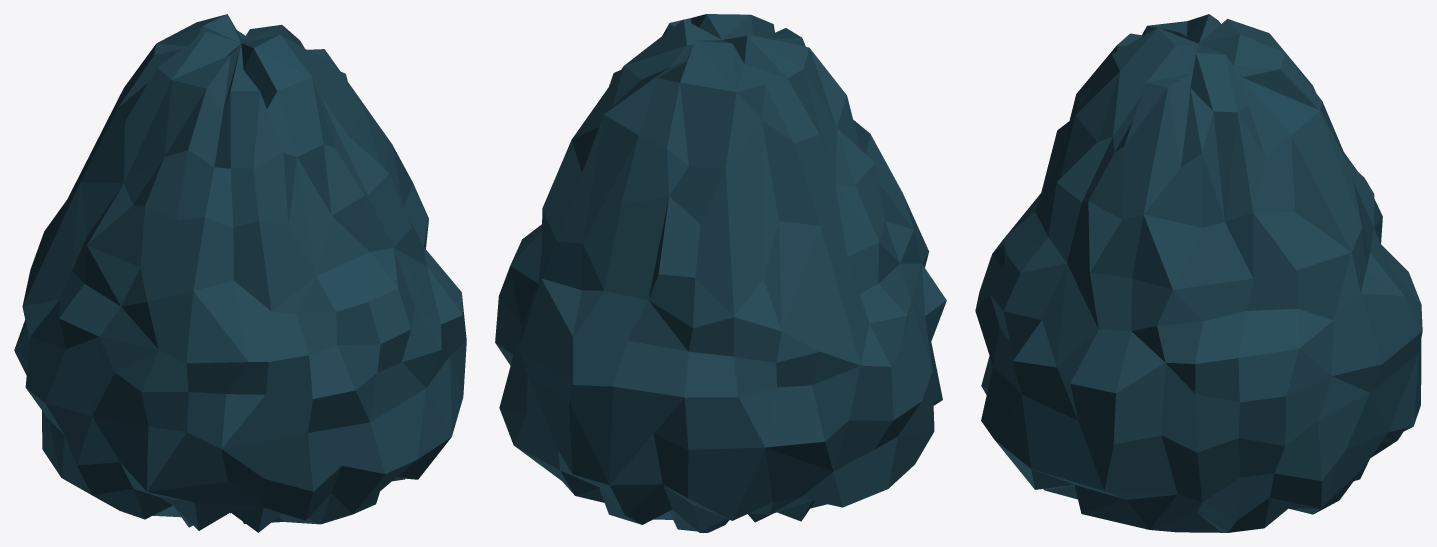
The model's file is Dungeon.fbx.
The picture shows the model from 3 angles, left to right: view 1: azimuth 30°, elevation 25°; view 2: azimuth 150°, elevation 25°; view 3: azimuth 270°, elevation 25°; orthographic projection.
Visible parts, largest first — view 1: Sphere; view 2: Sphere; view 3: Sphere.
Boxes of the visible parts, x1=… form: Sphere: x1=14, y1=14, x2=466, y2=532; Sphere: x1=495, y1=14, x2=946, y2=532; Sphere: x1=975, y1=14, x2=1422, y2=532.
Bounding box in the file's own units: 263 × 299 × 258.
